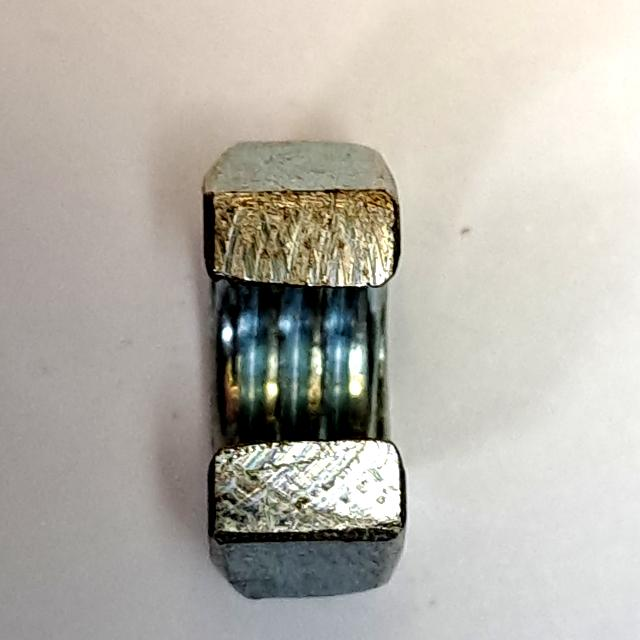Side-Fracture: (183, 130, 435, 612)
